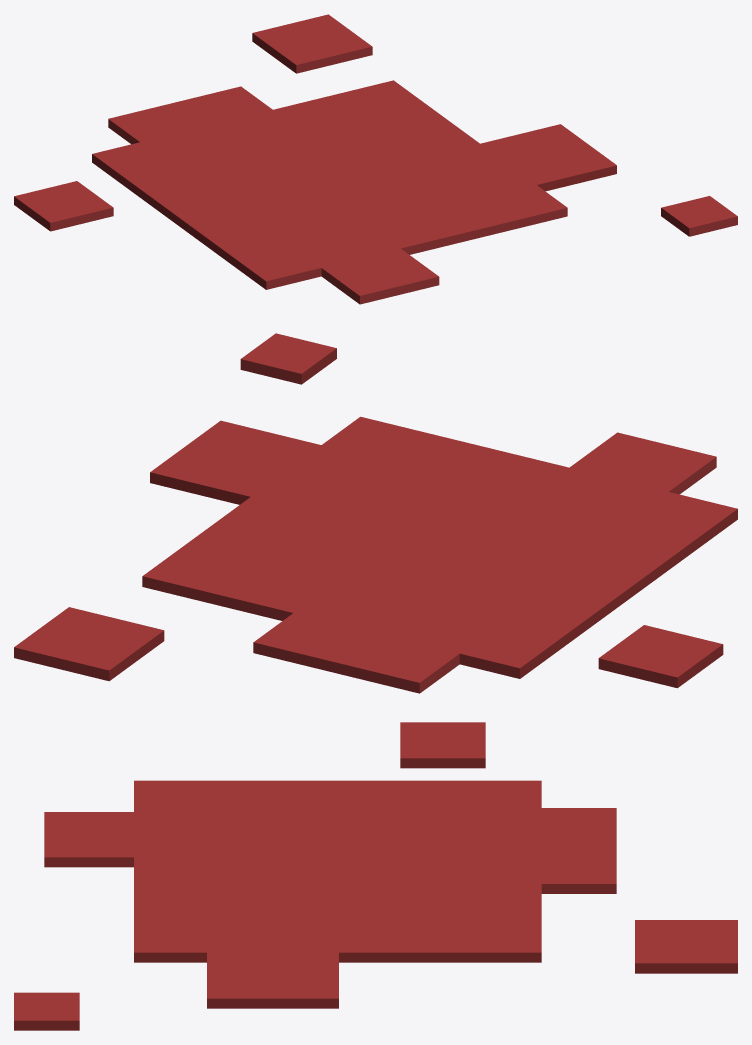
File: SA_Prop_Bloodstain_01.glb
3 renders of one model, top to bottom at view 1: azimuth 30°, elevation 25°; view 2: azimuth 150°, elevation 25°; view 3: azimuth 270°, elevation 25°, orthographic. The views are drawn at different scales.
Visible parts, largest first — view 1: SA_Prop_Bloodstain_01; view 2: SA_Prop_Bloodstain_01; view 3: SA_Prop_Bloodstain_01.
Part boxes in pixels (x1,y1,x2,y2): SA_Prop_Bloodstain_01: (14, 14, 737, 304); SA_Prop_Bloodstain_01: (14, 333, 737, 693); SA_Prop_Bloodstain_01: (14, 722, 737, 1030).
Size of the model in its own units: 0.6402 by 0.0101 by 0.6566.
1 material, 1 textured.
